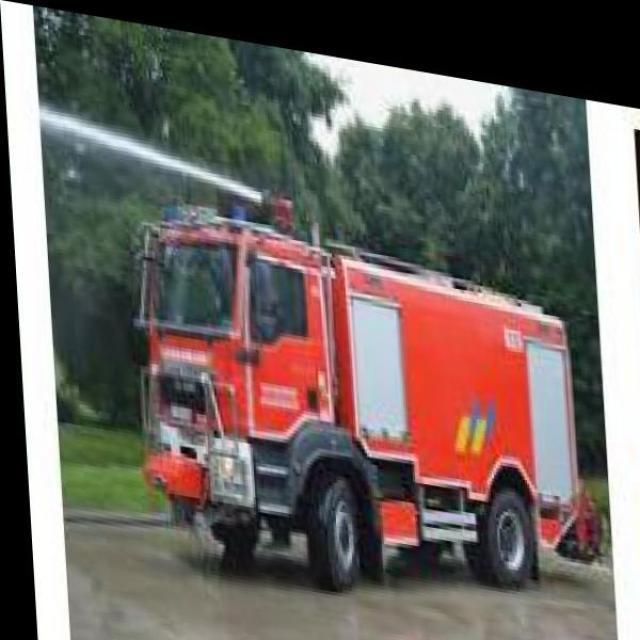emergency: (130, 190, 602, 592)
